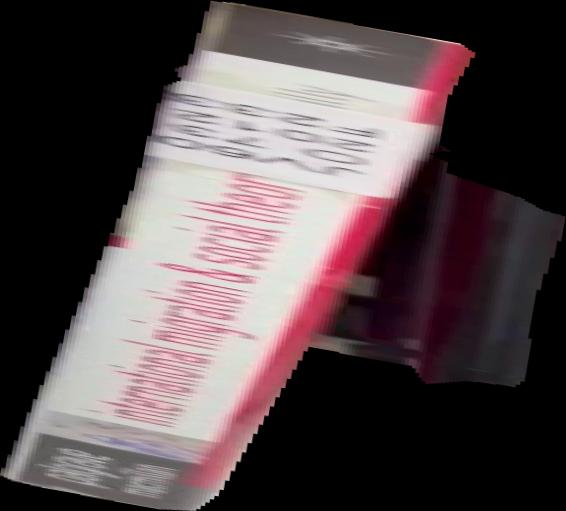reverse: (1, 1, 566, 511)
